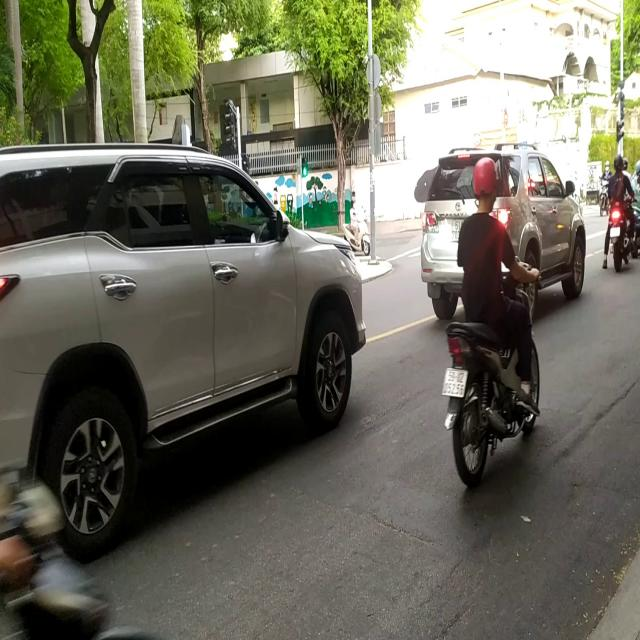bien_trang: (442, 359, 468, 403)
